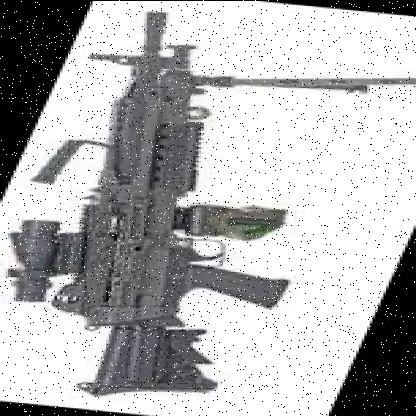rifle: (0, 4, 413, 408)
